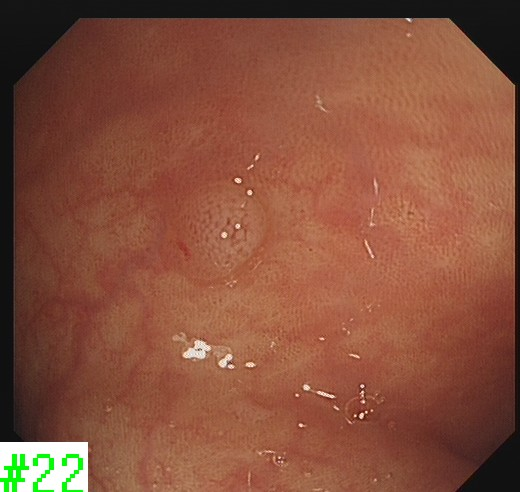adenoma: (170, 179, 270, 286)
